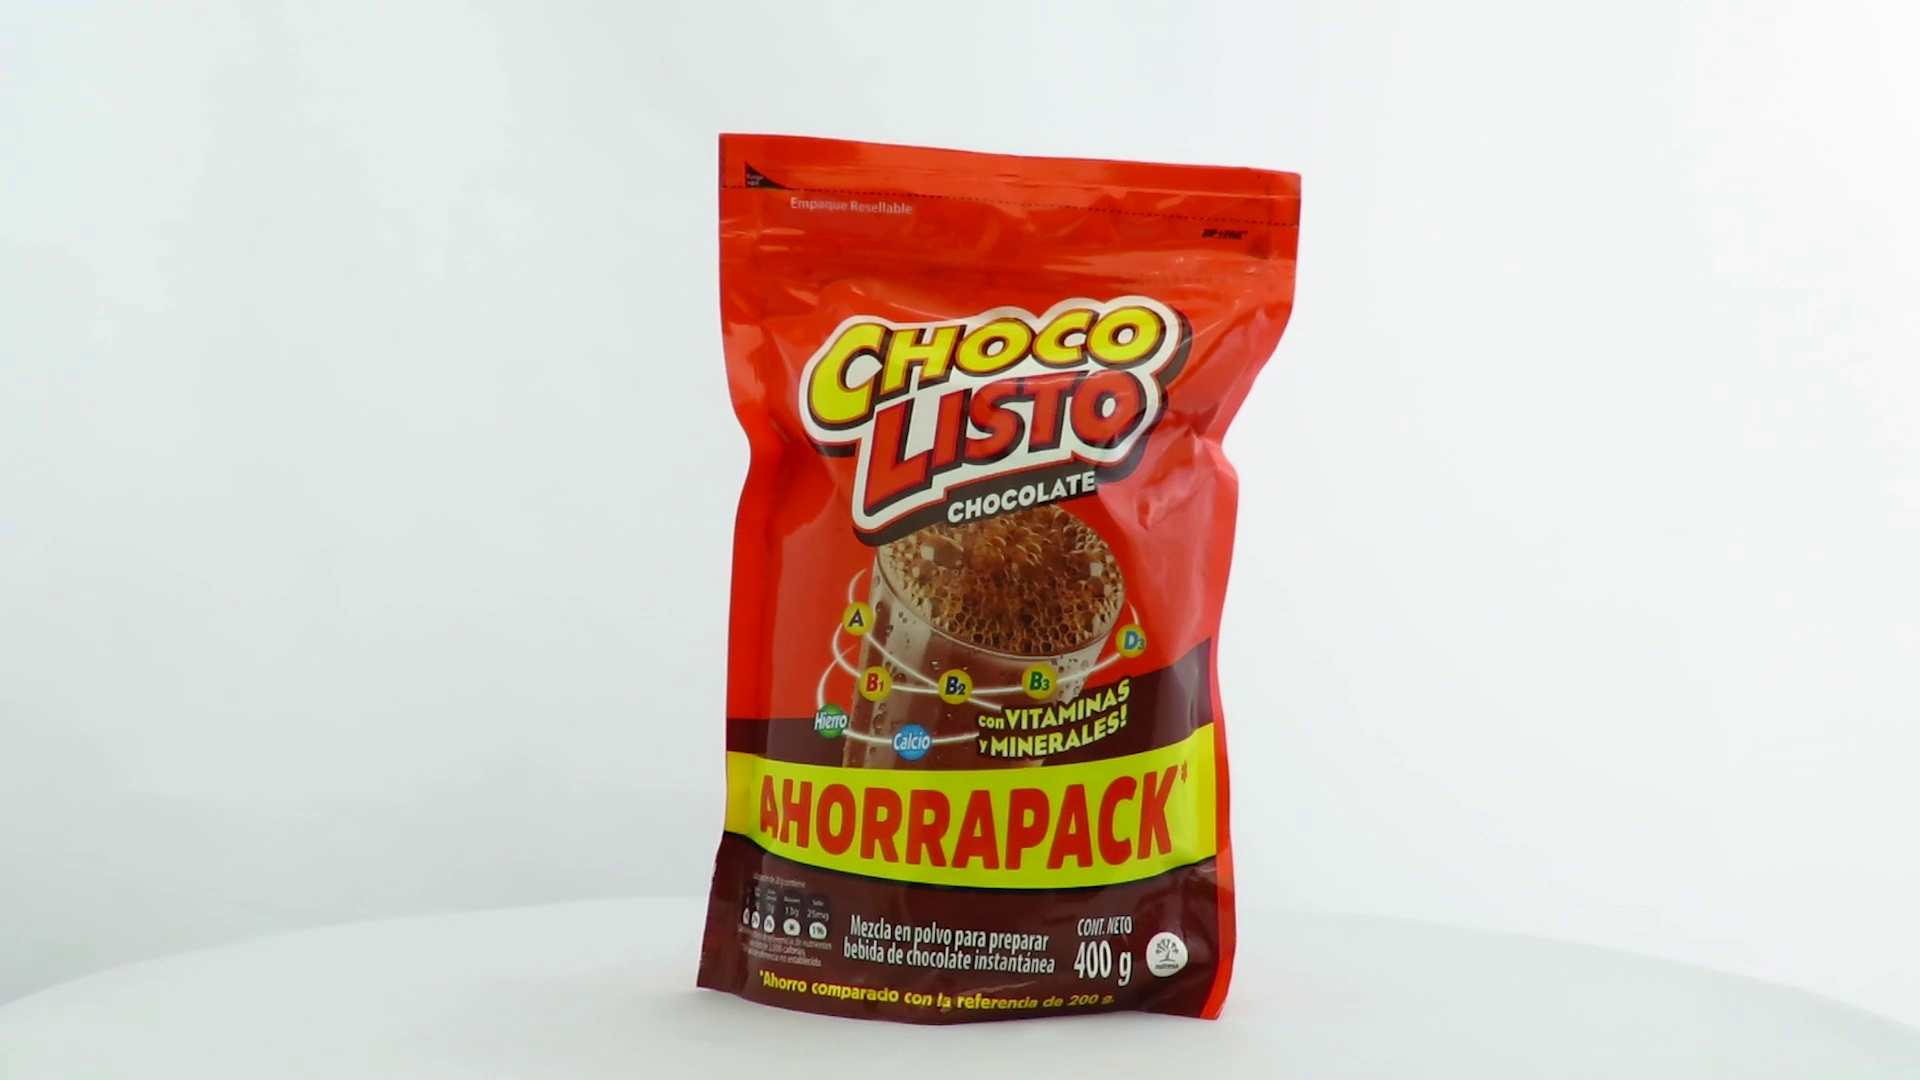COL0170103DYP40000: (691, 128, 1308, 1033)
